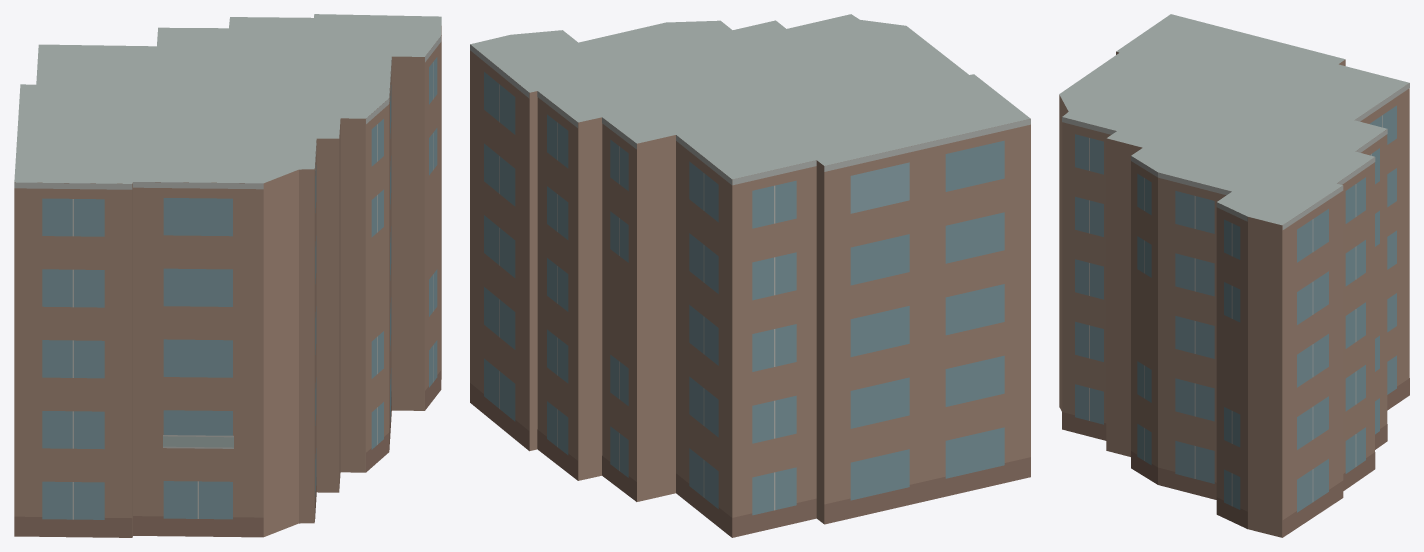
The model's file is survey-upis-33044044.glb.
The picture shows the model from 3 angles, left to right: view 1: azimuth 30°, elevation 25°; view 2: azimuth 150°, elevation 25°; view 3: azimuth 270°, elevation 25°; orthographic projection. The views are drawn at different scales.
Visible parts, largest first — view 1: survey-upis-33044044.tmp; view 2: survey-upis-33044044.tmp; view 3: survey-upis-33044044.tmp.
Part boxes in pixels (x1=…): survey-upis-33044044.tmp: x1=14, y1=14, x2=441, y2=537; survey-upis-33044044.tmp: x1=470, y1=14, x2=1030, y2=537; survey-upis-33044044.tmp: x1=1059, y1=14, x2=1409, y2=537.
Bounding box in the file's own units: 21.26 × 14.65 × 14.9.
